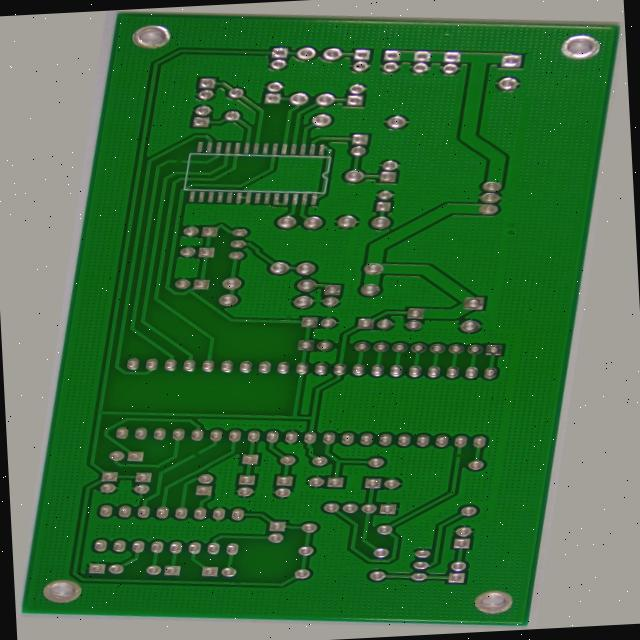open_circuit: (190, 465, 208, 475), (514, 443, 528, 453), (101, 164, 116, 172)
